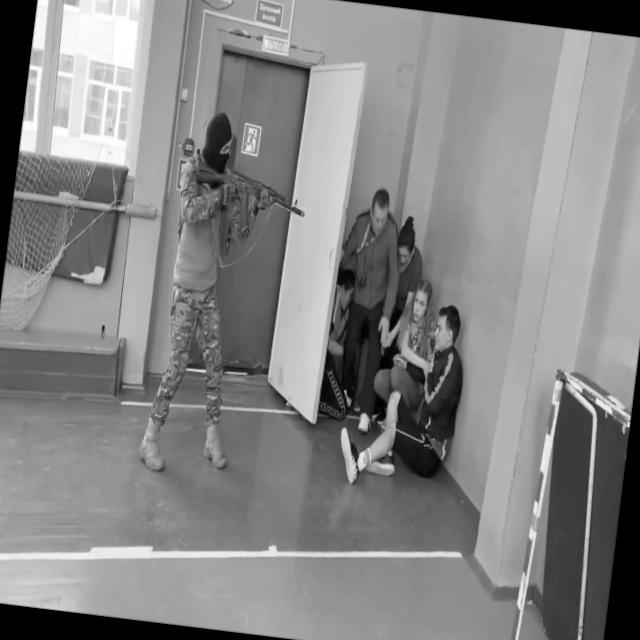gun: (188, 156, 310, 243)
person: (334, 293, 473, 497), (322, 183, 410, 431), (364, 274, 441, 439), (371, 215, 428, 430), (318, 269, 363, 423)
person with a gun: (135, 106, 316, 489)
